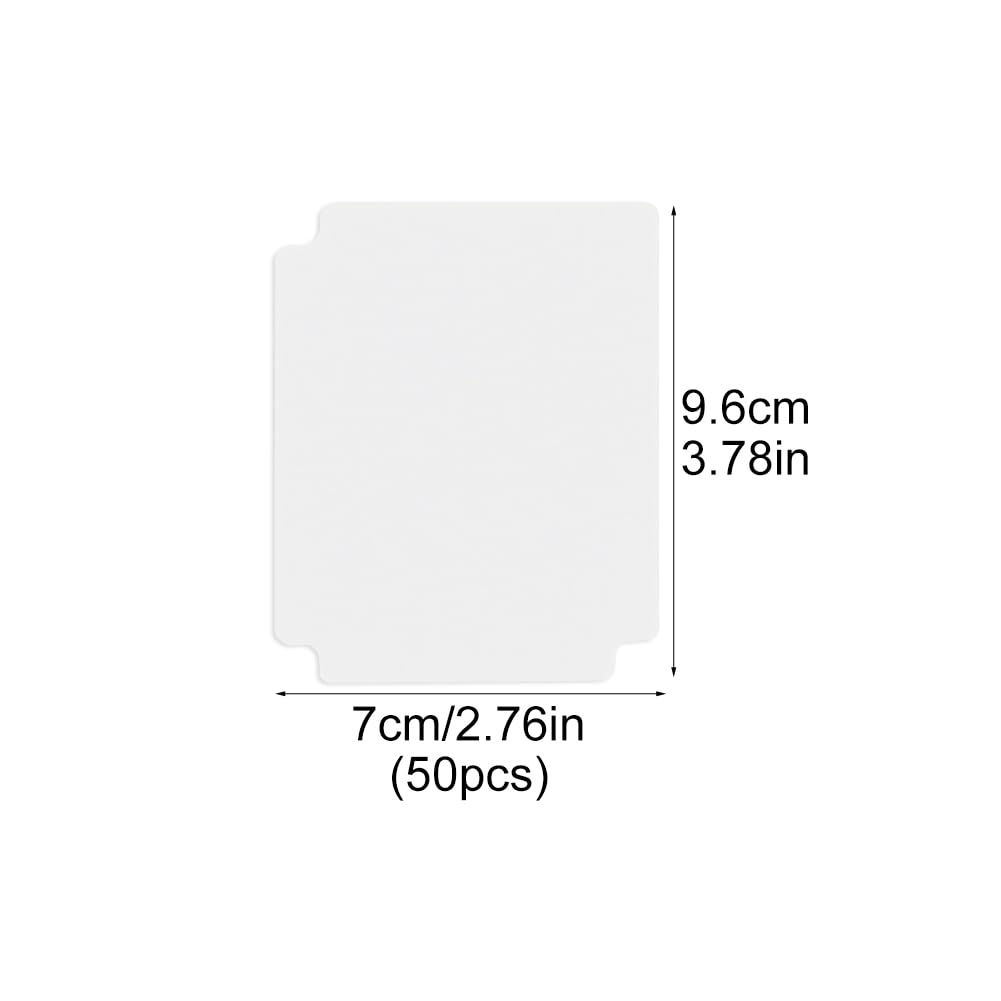(50pcs): (392, 756, 547, 801)
3.78in: (683, 440, 808, 475)
9.6cm: (683, 389, 808, 424)
